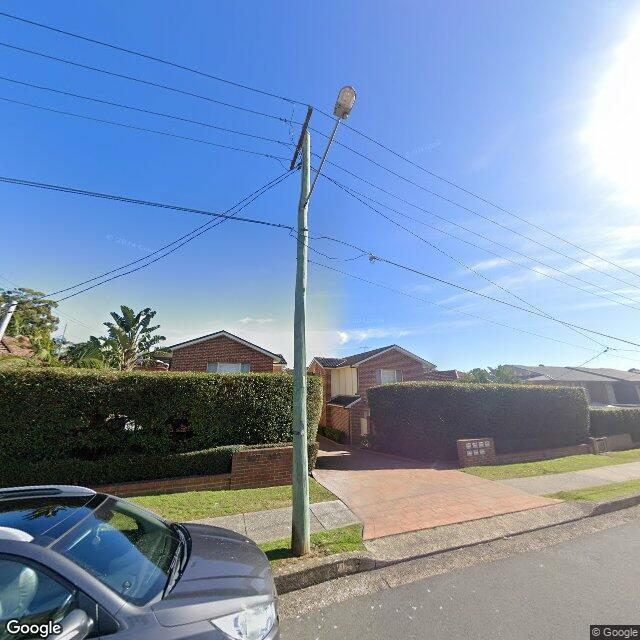crossarm: (290, 105, 314, 172)
streetlight: (304, 84, 357, 208)
timber-pole: (290, 132, 311, 557)
